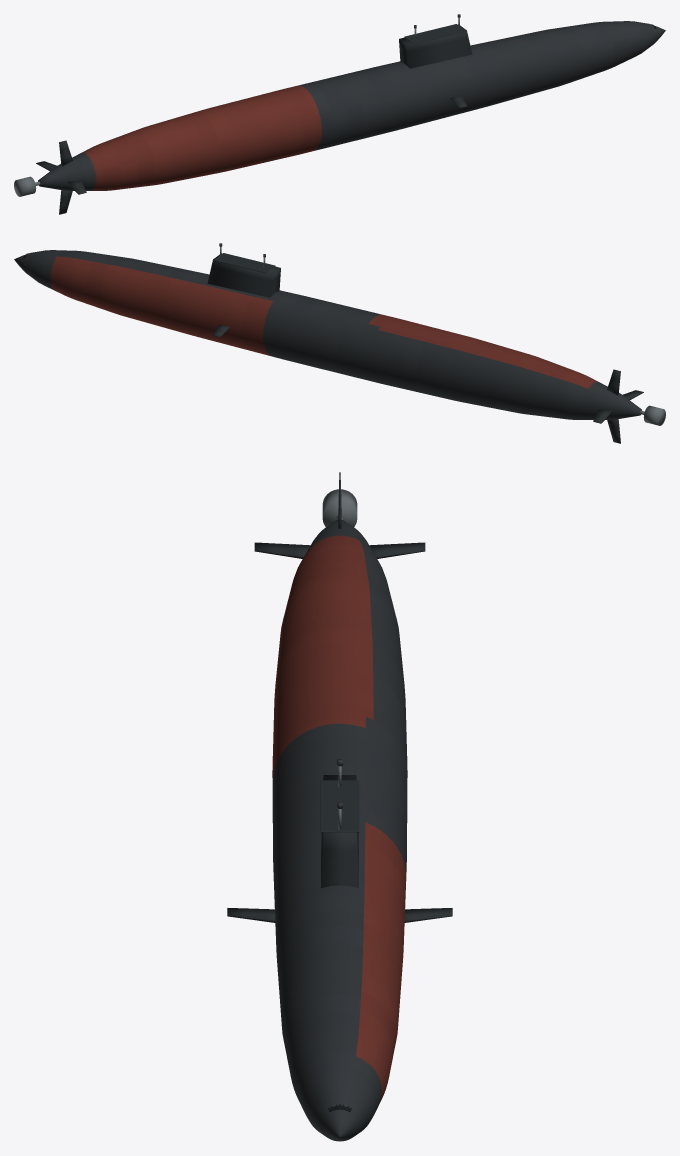
File: RU_SSN_YasenM.glb
3 views of the same model, one above another, from view 1: azimuth 30°, elevation 25°; view 2: azimuth 150°, elevation 25°; view 3: azimuth 270°, elevation 25° (orthographic). The views are drawn at different scales.
Parts seen in each view (by area): view 1: RU_SSN_YasenM_LOD0; view 2: RU_SSN_YasenM_LOD0; view 3: RU_SSN_YasenM_LOD0.
Part boxes in pixels (x1,y1,x2,y2): RU_SSN_YasenM_LOD0: (14, 14, 665, 214); RU_SSN_YasenM_LOD0: (14, 243, 665, 443); RU_SSN_YasenM_LOD0: (227, 472, 452, 1141).
Bounding box in the file's own units: 144 × 21.71 × 21.65.
Materials: 6 (1 with a texture image).
